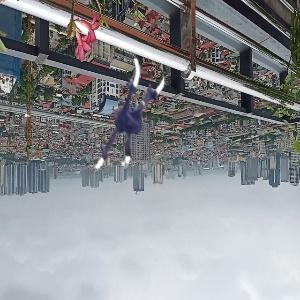drone: (62, 55, 179, 172)
